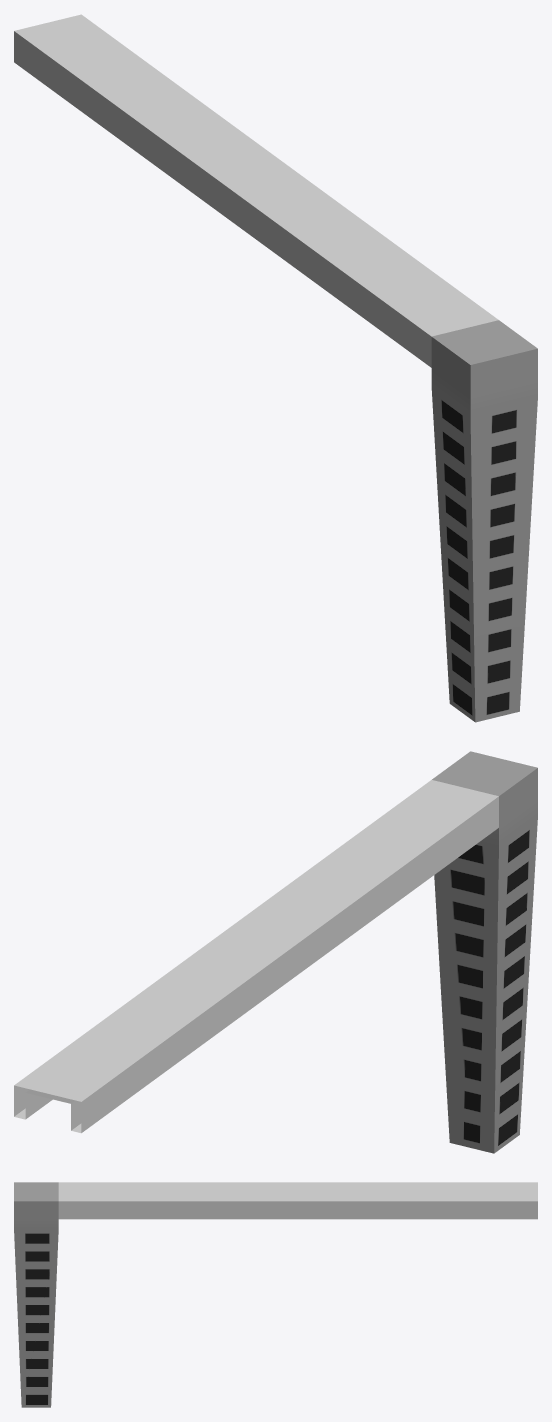
Rendered from CvsRR_Props_Columna_y_BArra.fbx.
3 views of the same model, one above another, from view 1: azimuth 30°, elevation 25°; view 2: azimuth 150°, elevation 25°; view 3: azimuth 270°, elevation 25° (orthographic). The views are drawn at different scales.
Parts seen in each view (by area): view 1: CvsRR_Props_Columna_y_BArra; view 2: CvsRR_Props_Columna_y_BArra; view 3: CvsRR_Props_Columna_y_BArra.
Part boxes in pixels (x1=…): CvsRR_Props_Columna_y_BArra: x1=14, y1=14, x2=537, y2=722; CvsRR_Props_Columna_y_BArra: x1=14, y1=751, x2=537, y2=1153; CvsRR_Props_Columna_y_BArra: x1=14, y1=1182, x2=537, y2=1407.
Size of the model in its own units: 1.49 by 7.69 by 17.44.
